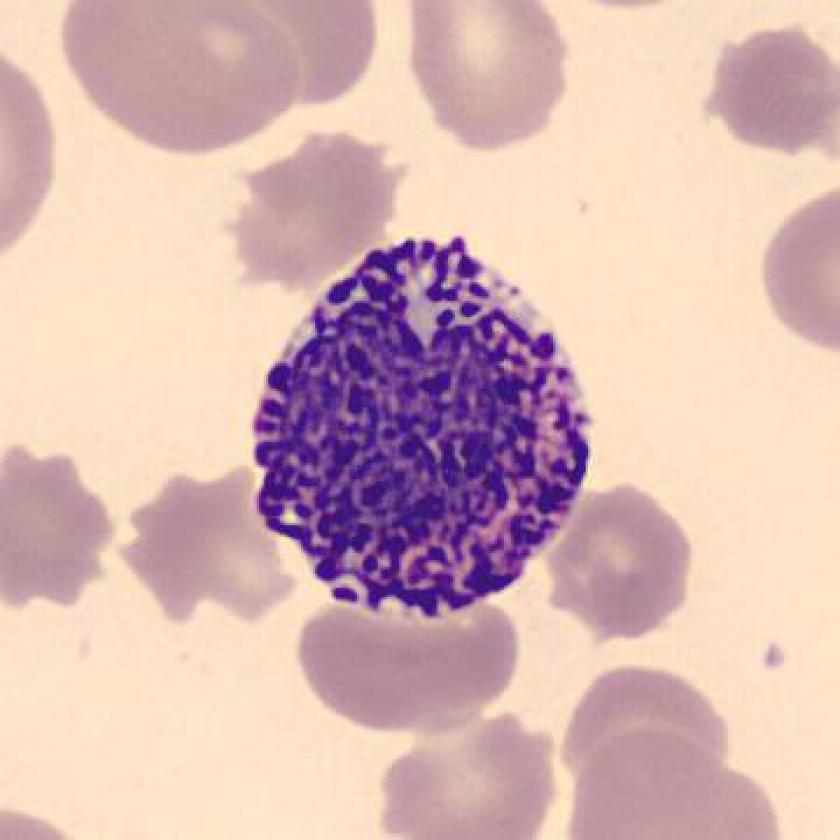basophil: (242, 233, 599, 622)
